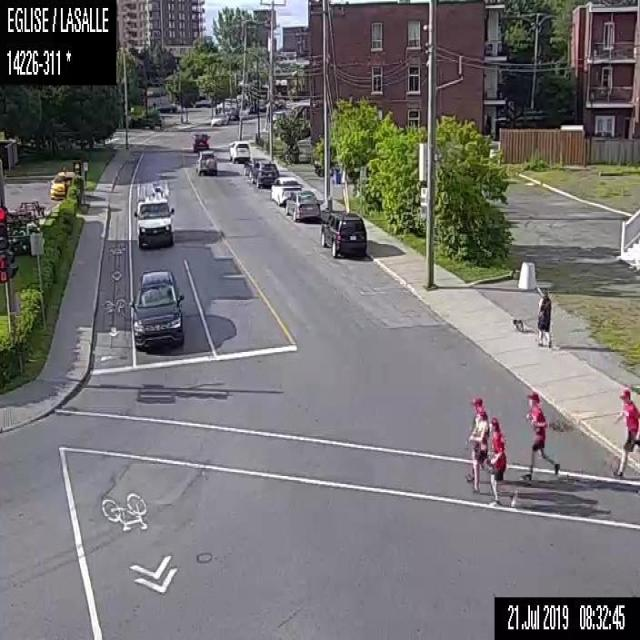pedestrian: (520, 392, 562, 480), (484, 411, 517, 511), (610, 390, 639, 478), (464, 395, 486, 508), (535, 285, 552, 348)
vehicle: (128, 265, 186, 351), (132, 177, 175, 248), (318, 210, 367, 258), (285, 190, 321, 220), (269, 173, 301, 203), (248, 158, 278, 188), (49, 168, 76, 200), (195, 148, 218, 176), (227, 138, 251, 163), (190, 131, 209, 151), (210, 112, 230, 125), (155, 100, 176, 112)
